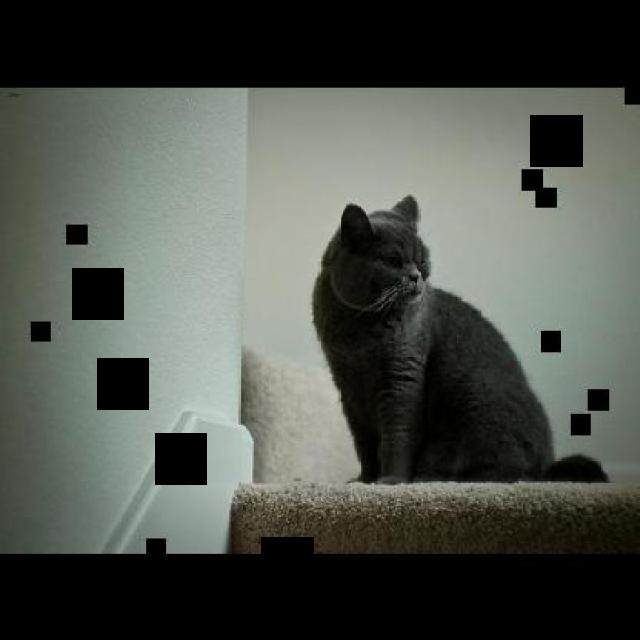unauthorized: (309, 192, 611, 485)
